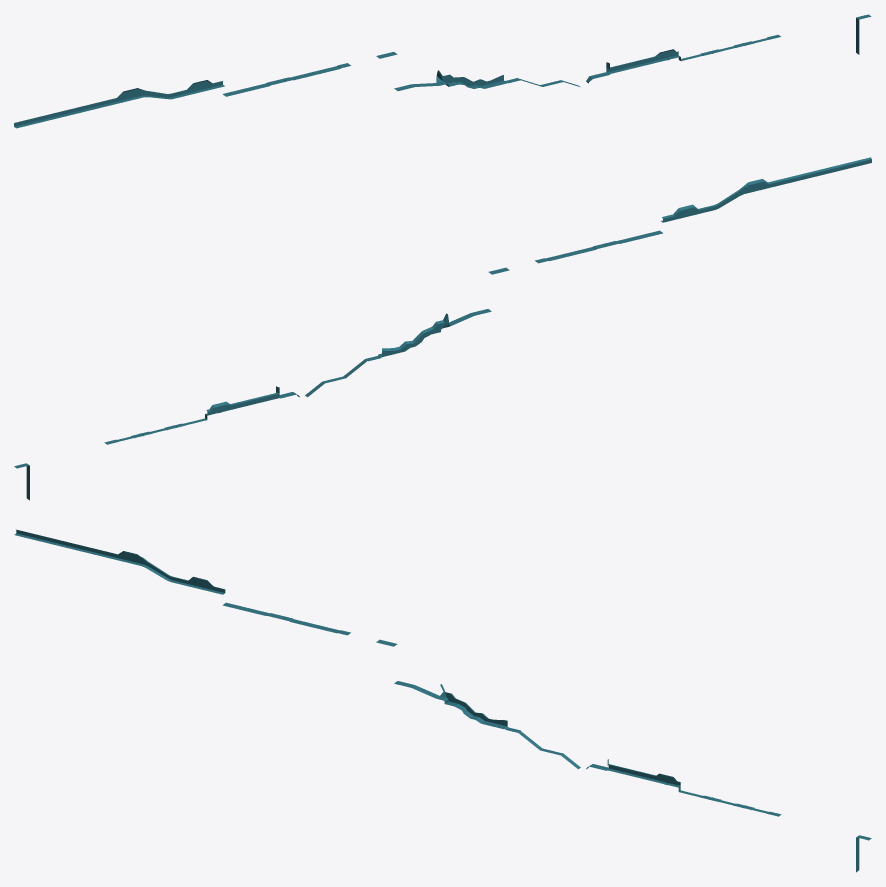
File: mountain_cart_col.gltf
The picture shows the model from 3 angles, top to bottom: view 1: azimuth 30°, elevation 25°; view 2: azimuth 210°, elevation 25°; view 3: azimuth 330°, elevation 25°; orthographic projection.
Visible parts, largest first — view 1: root; view 2: root; view 3: root.
Part boxes in pixels (box(x1,y1,x2,y2)): root: box(14, 14, 871, 128); root: box(14, 157, 871, 500); root: box(14, 529, 871, 872).
Size of the model in its own units: 1278 by 202 by 15.58.
